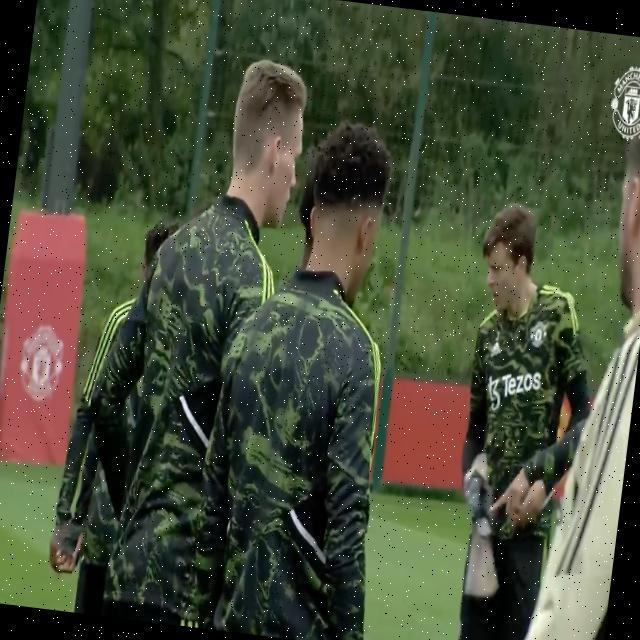Adidas: (489, 338, 503, 358)
